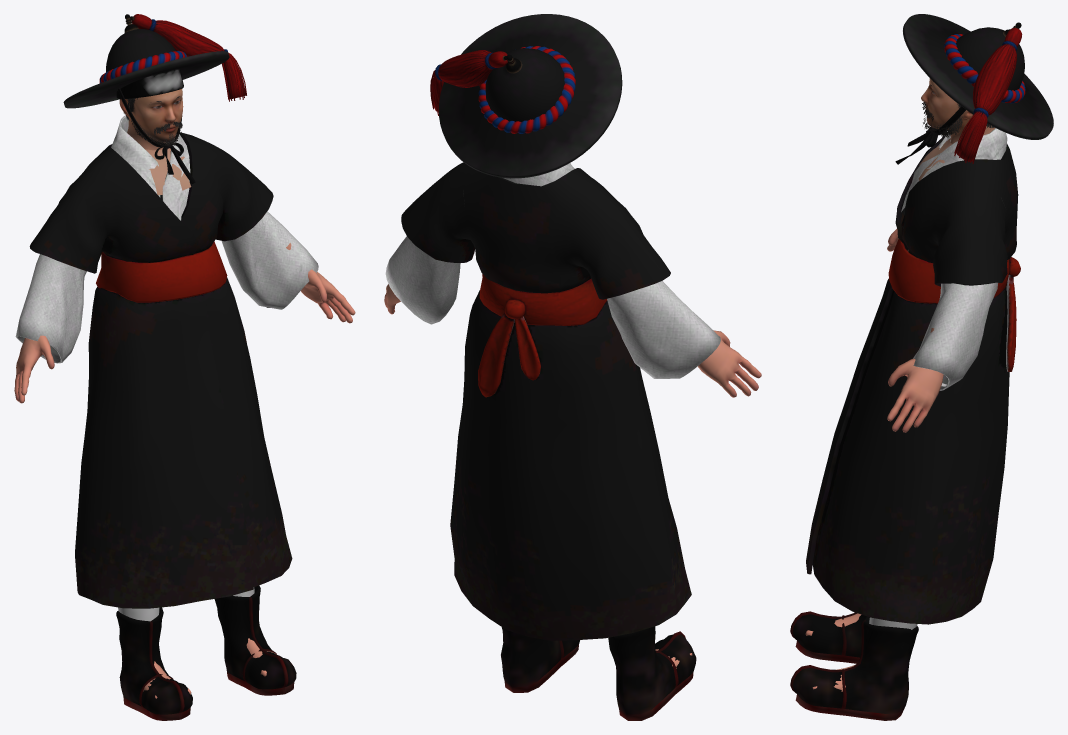
File: soldier.fbx
3 views of the same model, side by side, from view 1: azimuth 30°, elevation 25°; view 2: azimuth 150°, elevation 25°; view 3: azimuth 270°, elevation 25° (orthographic). The views are drawn at different scales.
Visible parts, largest first — view 1: NPC_Soldier_Castle_Mesh_0; view 2: NPC_Soldier_Castle_Mesh_0; view 3: NPC_Soldier_Castle_Mesh_0.
Boxes of the visible parts, bbox=[...] form: NPC_Soldier_Castle_Mesh_0: bbox=[14, 14, 355, 720]; NPC_Soldier_Castle_Mesh_0: bbox=[384, 14, 761, 720]; NPC_Soldier_Castle_Mesh_0: bbox=[790, 14, 1053, 720].
Size of the model in its own units: 99.92 by 180 by 64.67.
3 materials, 3 textured.
